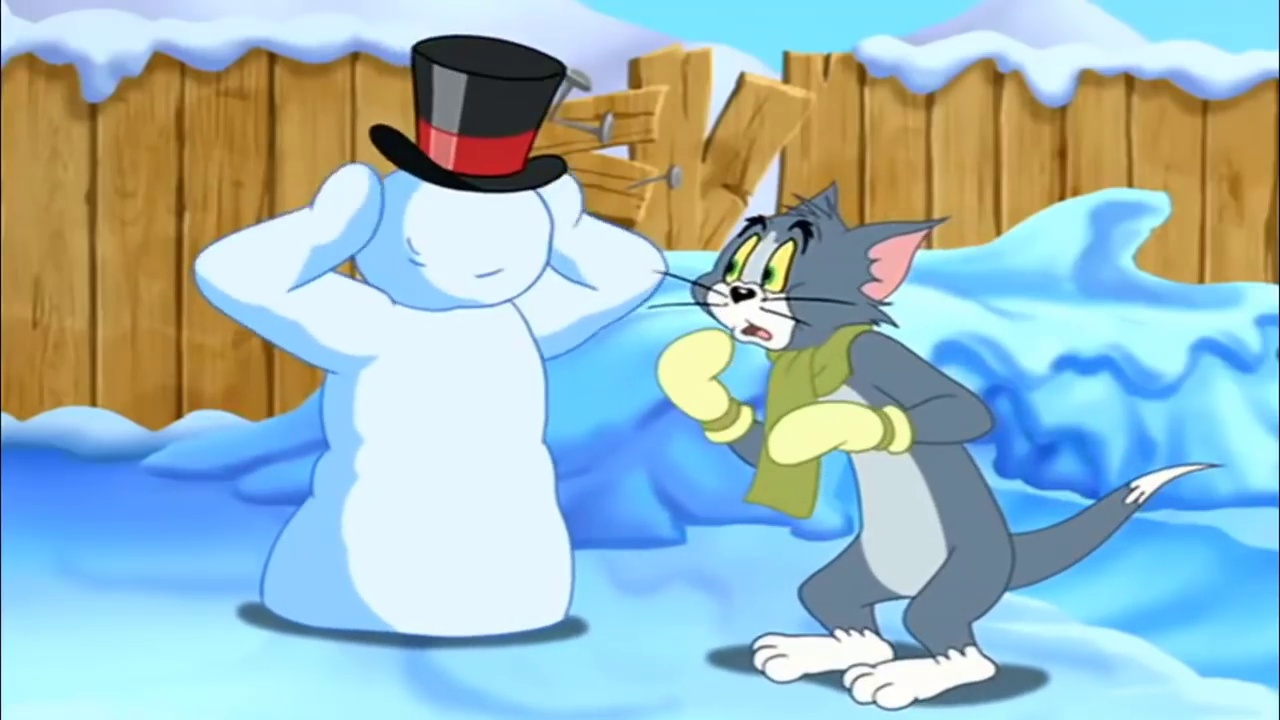face: (706, 214, 824, 349)
